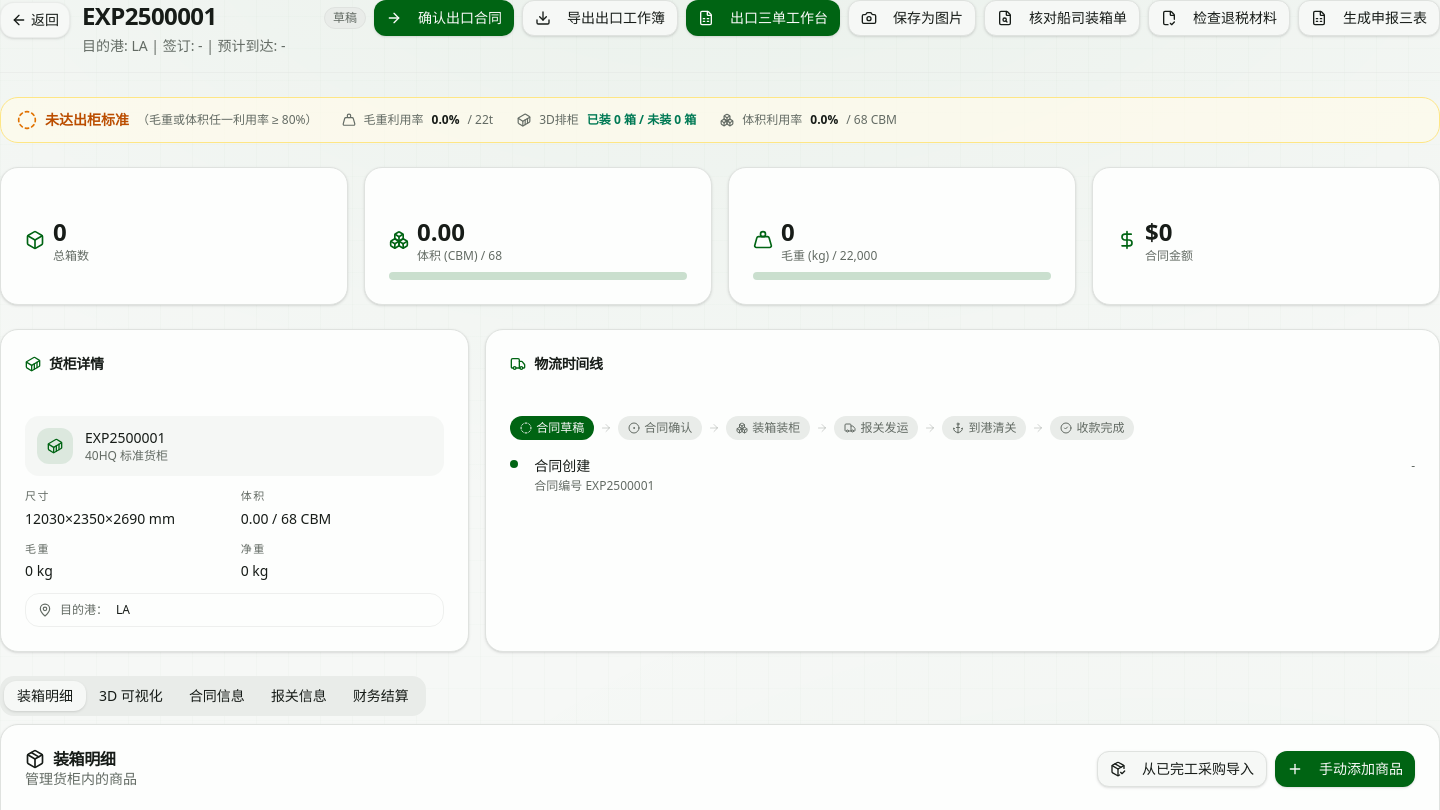
Test case: SalesDetailPage 交互逻辑 › 点击添加商品会打开明细弹窗
Click the button "手动添加商品" at coordinates (1345, 769), box [1275,751,1415,787]
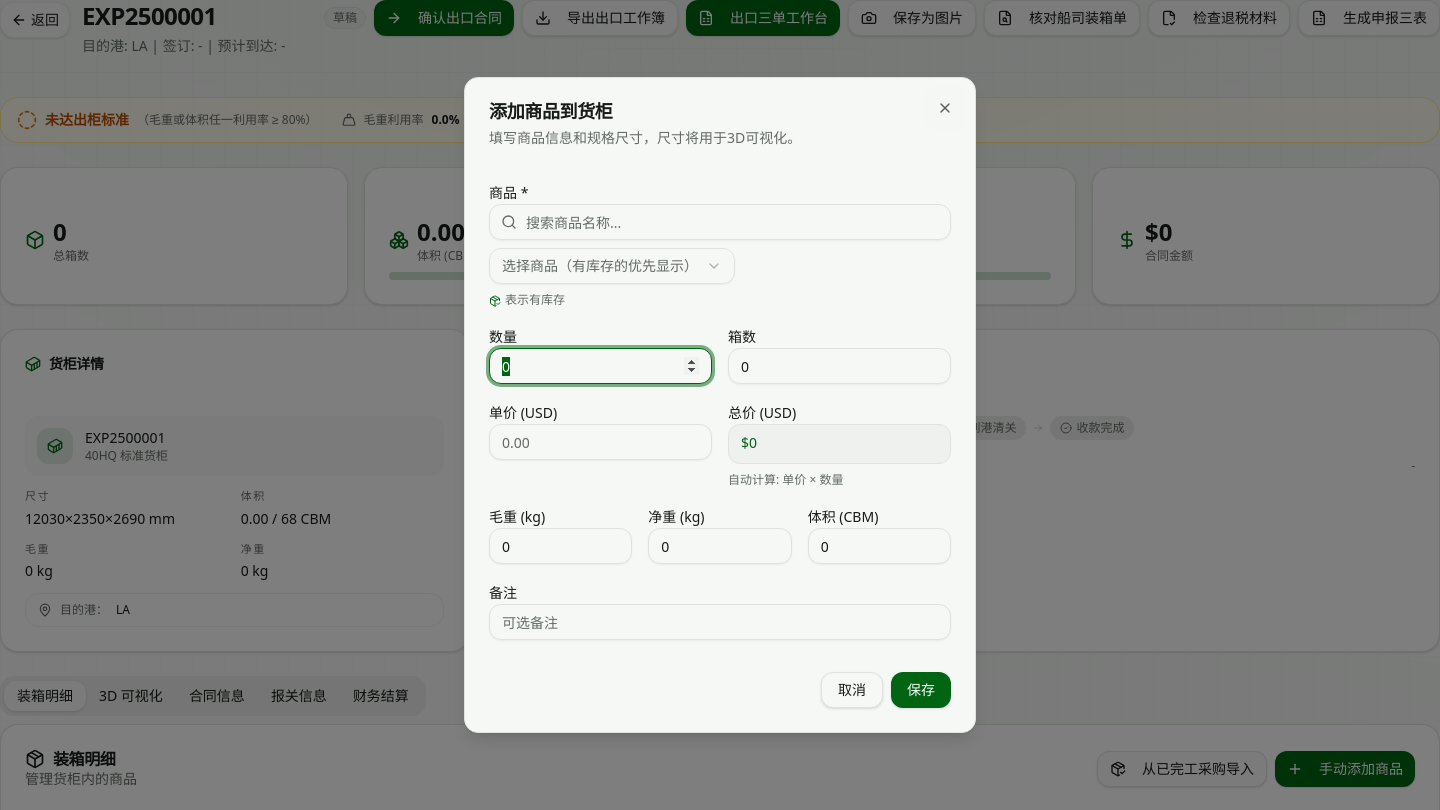
Expected: the heading "添加商品到货柜" is shown, [489,99,612,123]
